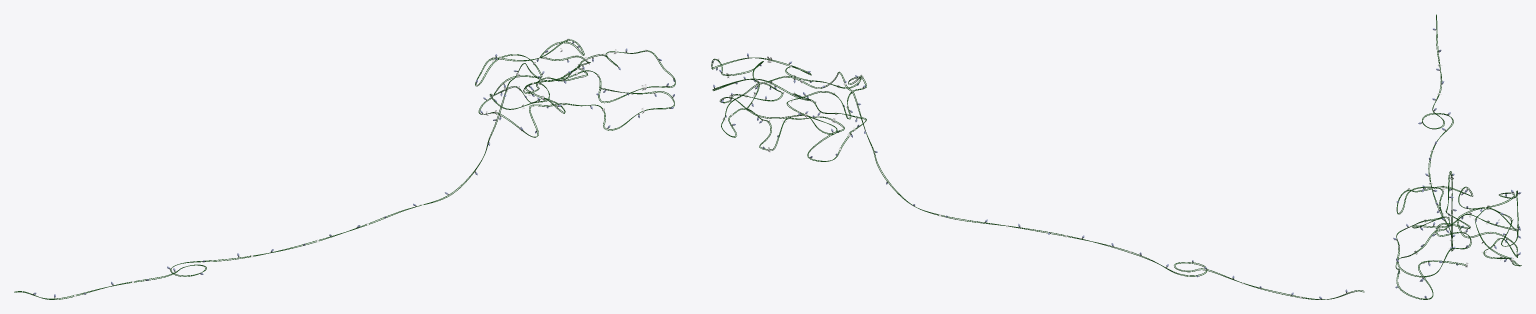
Rendered from StringLightModel.fbx.
3 views of the same model, side by side, from view 1: azimuth 30°, elevation 25°; view 2: azimuth 150°, elevation 25°; view 3: azimuth 270°, elevation 25° (orthographic).
Parts seen in each view (by area): view 1: pPlane54; view 2: pPlane54; view 3: pPlane54.
Boxes of the visible parts, <box> form: pPlane54: <box>14,38,675,299</box>; pPlane54: <box>711,53,1364,299</box>; pPlane54: <box>1393,14,1521,299</box>.
Size of the model in its own units: 1371 by 268 by 230.
